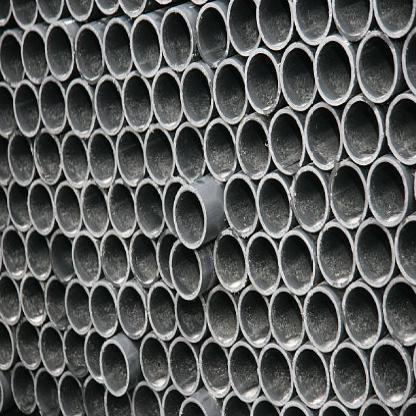pipe: (356, 30, 398, 104), (366, 156, 408, 226), (342, 95, 383, 165), (354, 218, 394, 288), (314, 36, 354, 106), (328, 160, 368, 228), (370, 340, 410, 408), (341, 283, 382, 348), (304, 102, 342, 170), (330, 342, 369, 408), (280, 42, 317, 111), (316, 222, 354, 288), (303, 287, 341, 353), (292, 166, 329, 233), (278, 230, 315, 296), (292, 345, 330, 409), (382, 276, 416, 346), (269, 110, 305, 176), (256, 173, 292, 238), (246, 48, 280, 114), (245, 232, 280, 296), (258, 342, 293, 406), (196, 3, 230, 68), (213, 59, 247, 123), (269, 288, 304, 350), (236, 116, 270, 179), (224, 174, 258, 237), (173, 186, 207, 249), (213, 230, 247, 292), (386, 93, 415, 165), (161, 7, 193, 72), (180, 62, 212, 126), (238, 286, 271, 348), (169, 240, 203, 300), (204, 118, 236, 181), (228, 340, 260, 402), (131, 15, 162, 77), (174, 122, 206, 182), (256, 0, 293, 51), (207, 286, 238, 346), (200, 338, 231, 398), (103, 18, 133, 80), (152, 69, 182, 130), (168, 337, 199, 396), (122, 72, 152, 132), (228, 0, 260, 56), (116, 127, 146, 186), (45, 22, 75, 81), (145, 124, 174, 185), (294, 0, 332, 46), (95, 75, 124, 135), (332, 0, 373, 42), (135, 179, 164, 238), (75, 25, 104, 84), (140, 334, 170, 391), (66, 79, 95, 137), (60, 132, 90, 188), (117, 284, 147, 340), (100, 340, 130, 396), (147, 283, 176, 340), (88, 129, 116, 188), (108, 179, 136, 238), (372, 0, 415, 38), (81, 180, 109, 238), (38, 77, 66, 134), (394, 214, 416, 286), (34, 128, 62, 184), (21, 27, 49, 83), (13, 80, 40, 138), (100, 232, 129, 286), (89, 283, 118, 337), (7, 131, 35, 186), (174, 294, 206, 342), (27, 180, 54, 236), (54, 182, 81, 238), (130, 231, 158, 284), (72, 233, 100, 286), (0, 28, 26, 84), (65, 280, 91, 335), (50, 230, 76, 283), (20, 273, 46, 326), (40, 323, 66, 376), (26, 228, 52, 280), (62, 326, 88, 377), (1, 226, 26, 279), (45, 276, 69, 330), (17, 317, 41, 370), (12, 362, 36, 414), (34, 368, 60, 415), (7, 180, 30, 232), (58, 371, 84, 415), (0, 272, 21, 326), (84, 329, 104, 384), (132, 381, 162, 415), (83, 375, 106, 415), (10, 0, 38, 29), (161, 387, 188, 416), (220, 392, 252, 416), (0, 318, 14, 369), (179, 394, 208, 416), (250, 395, 280, 416), (66, 0, 94, 22), (36, 0, 64, 22), (316, 399, 352, 416), (356, 400, 394, 416), (119, 0, 150, 19), (278, 401, 310, 416), (96, 0, 121, 17)
